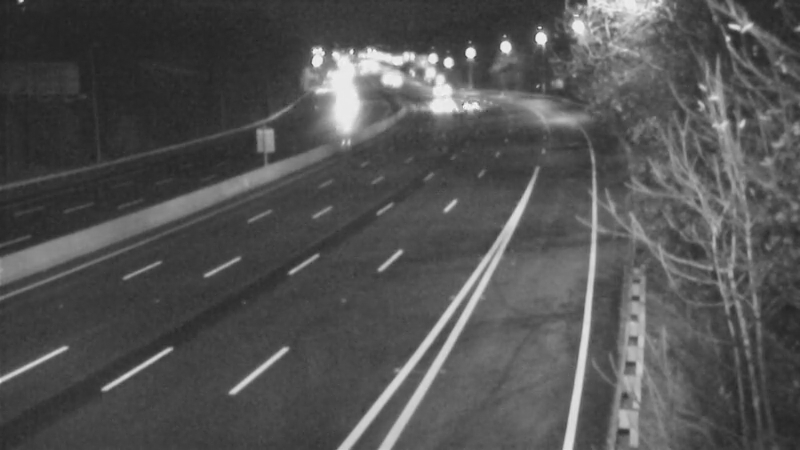vehicle: (413, 65, 463, 115), (449, 78, 499, 128), (412, 81, 462, 131), (319, 74, 369, 124)
